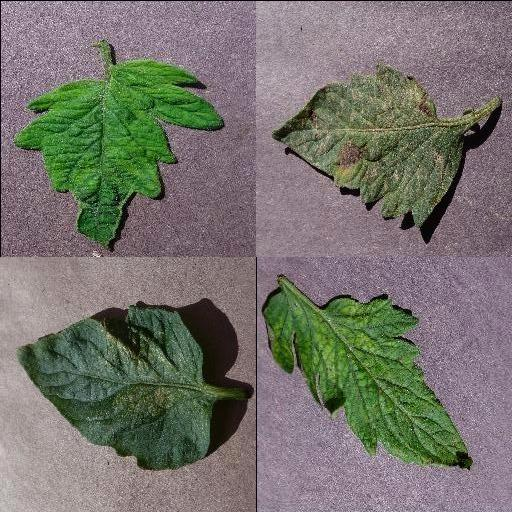Early Blight: (269, 66, 461, 228)
Mosaic Virus: (10, 59, 226, 251), (261, 290, 475, 472)
Spider Mites: (14, 303, 214, 469)
